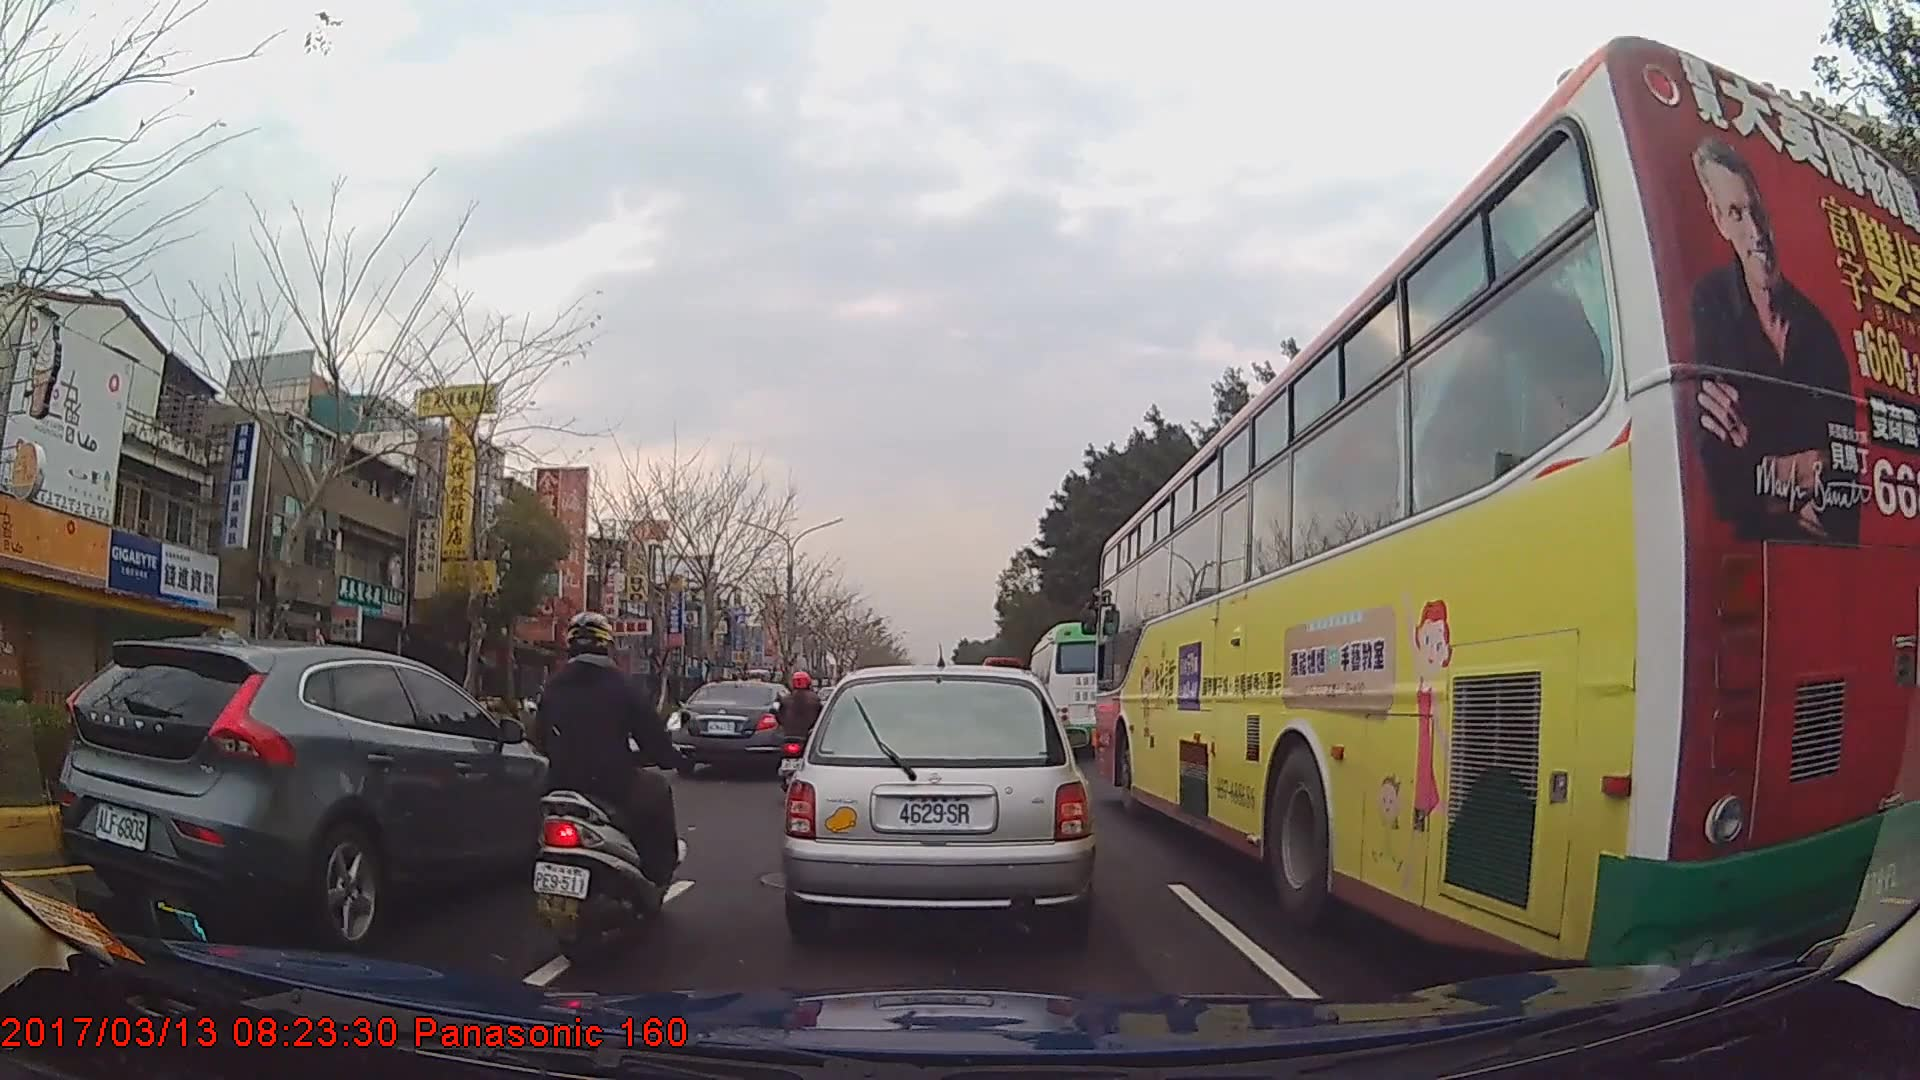rider: (529, 609, 681, 962), (773, 670, 831, 789)
vehicle: (1093, 28, 1920, 977), (59, 635, 570, 948), (781, 657, 1100, 939), (1028, 617, 1139, 757), (673, 677, 804, 777)
